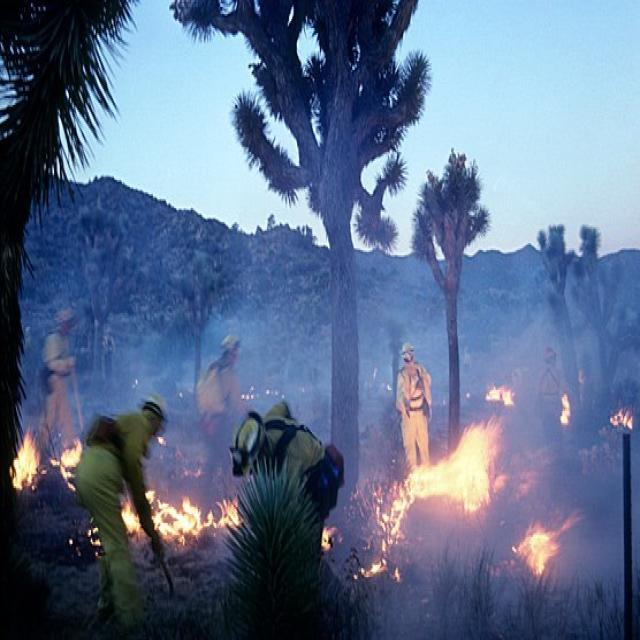Fire: (318, 466, 415, 580), (130, 476, 257, 546), (413, 426, 490, 513), (516, 526, 555, 580), (474, 377, 520, 420), (53, 432, 81, 499), (154, 500, 202, 539), (69, 526, 109, 571), (13, 434, 40, 489), (552, 390, 578, 441), (611, 408, 640, 446)
Smoke: (102, 272, 235, 430), (226, 256, 340, 422), (462, 261, 638, 368), (367, 246, 455, 401)
